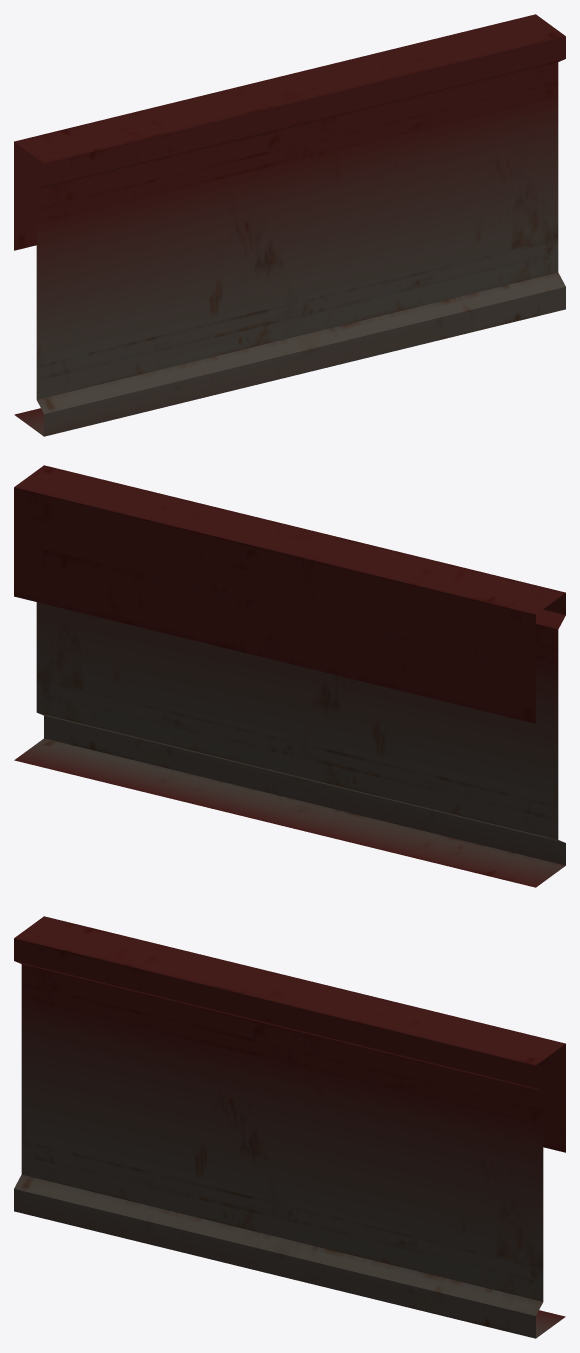
The model's file is cornice_metal_center.glb.
The picture shows the model from 3 angles, top to bottom: view 1: azimuth 30°, elevation 25°; view 2: azimuth 150°, elevation 25°; view 3: azimuth 330°, elevation 25°; orthographic projection.
Parts seen in each view (by area): view 1: Cornice_Metal_Center; view 2: Cornice_Metal_Center; view 3: Cornice_Metal_Center.
Part boxes in pixels (box(x1,y1,x2,y2)): Cornice_Metal_Center: box(14, 14, 565, 436); Cornice_Metal_Center: box(14, 465, 565, 887); Cornice_Metal_Center: box(14, 916, 565, 1338).
Size of the model in its own units: 2 by 1 by 0.2.
1 material, 1 textured.
